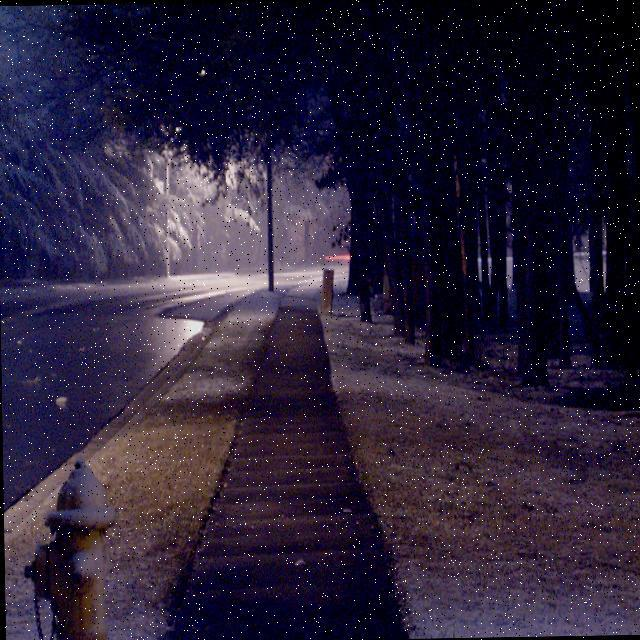fire_hydrant: (20, 457, 115, 640)
